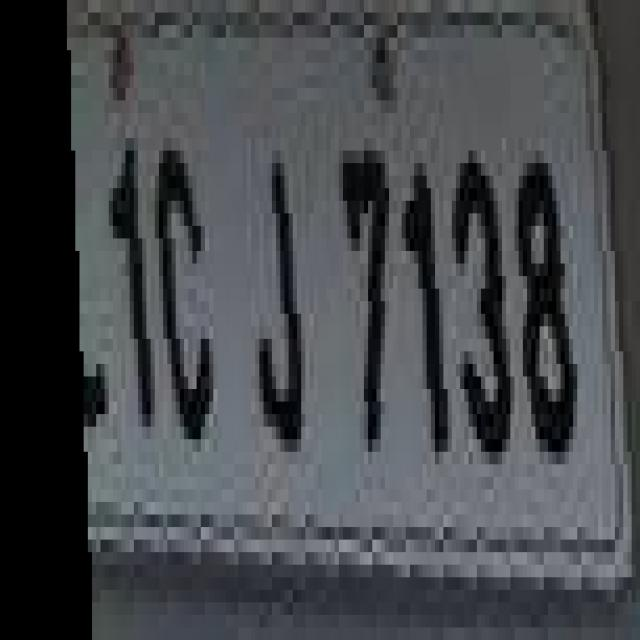license_plate: (29, 25, 640, 577)
